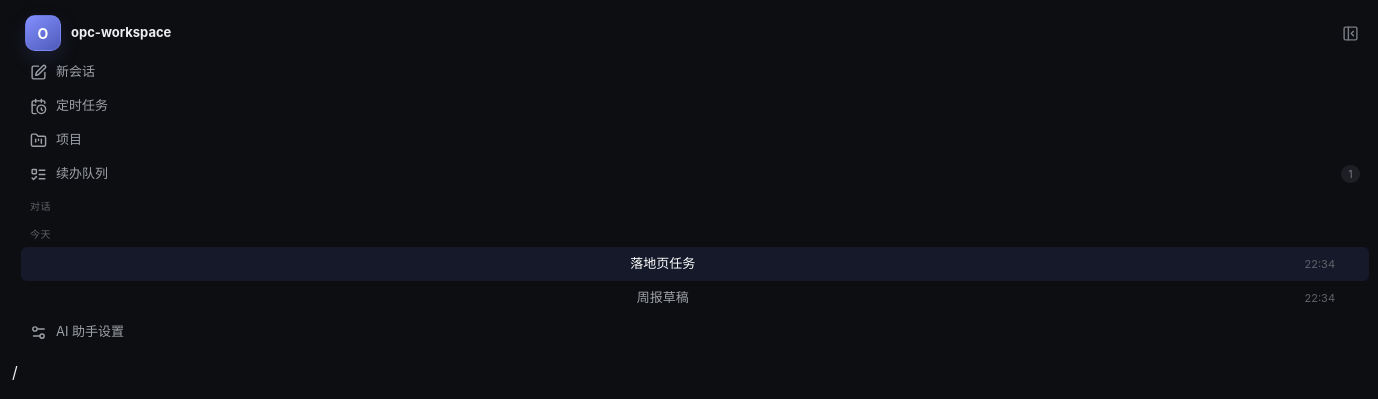
Test case: AiSessionRail › opens the Agent Inbox and resumes the selected plan conversation
This screenshot has width=1378, height=399.
Click the button "续办队列 1".
click(82, 173)  # box 21,157 -> 1369,191
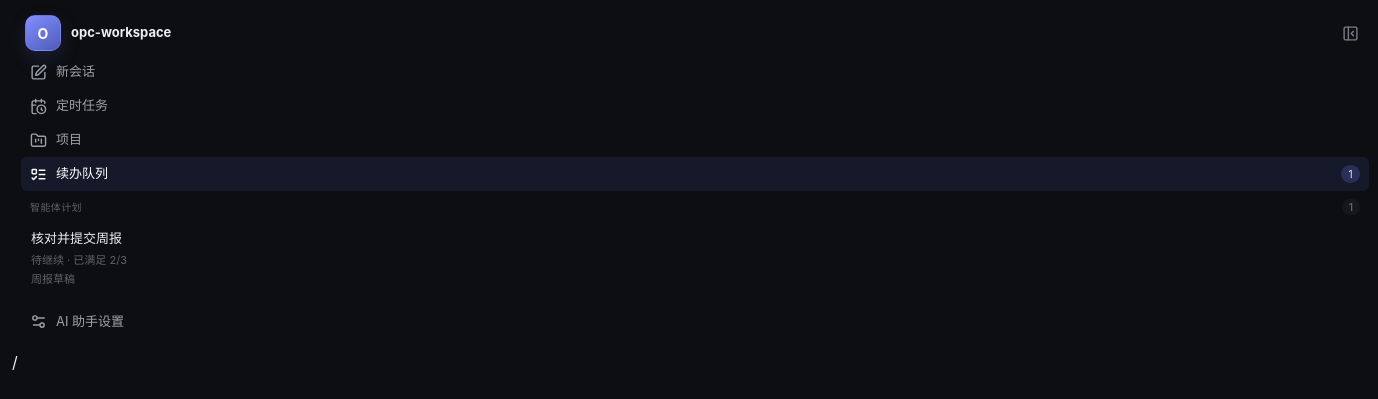
Expected: the text "智能体计划" is shown, 30,200 -> 82,214
Expected: the text "对话" is gone
Click the button "核对并提交周报 待继续 · 已满足 2/3 周报草稿".
click(77, 238)  # box 21,220 -> 1369,296
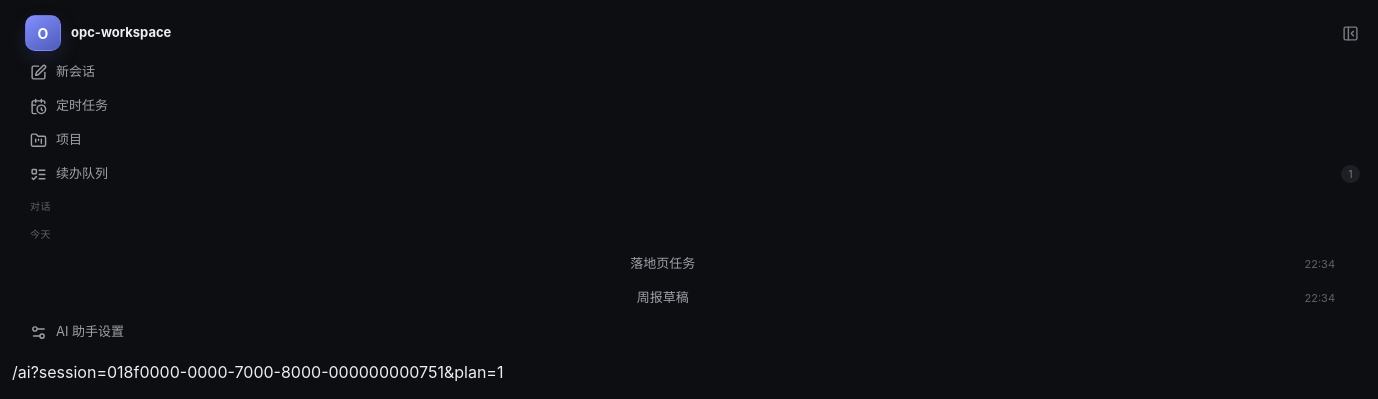
Expected: the text "对话" is shown, 30,200 -> 51,212
